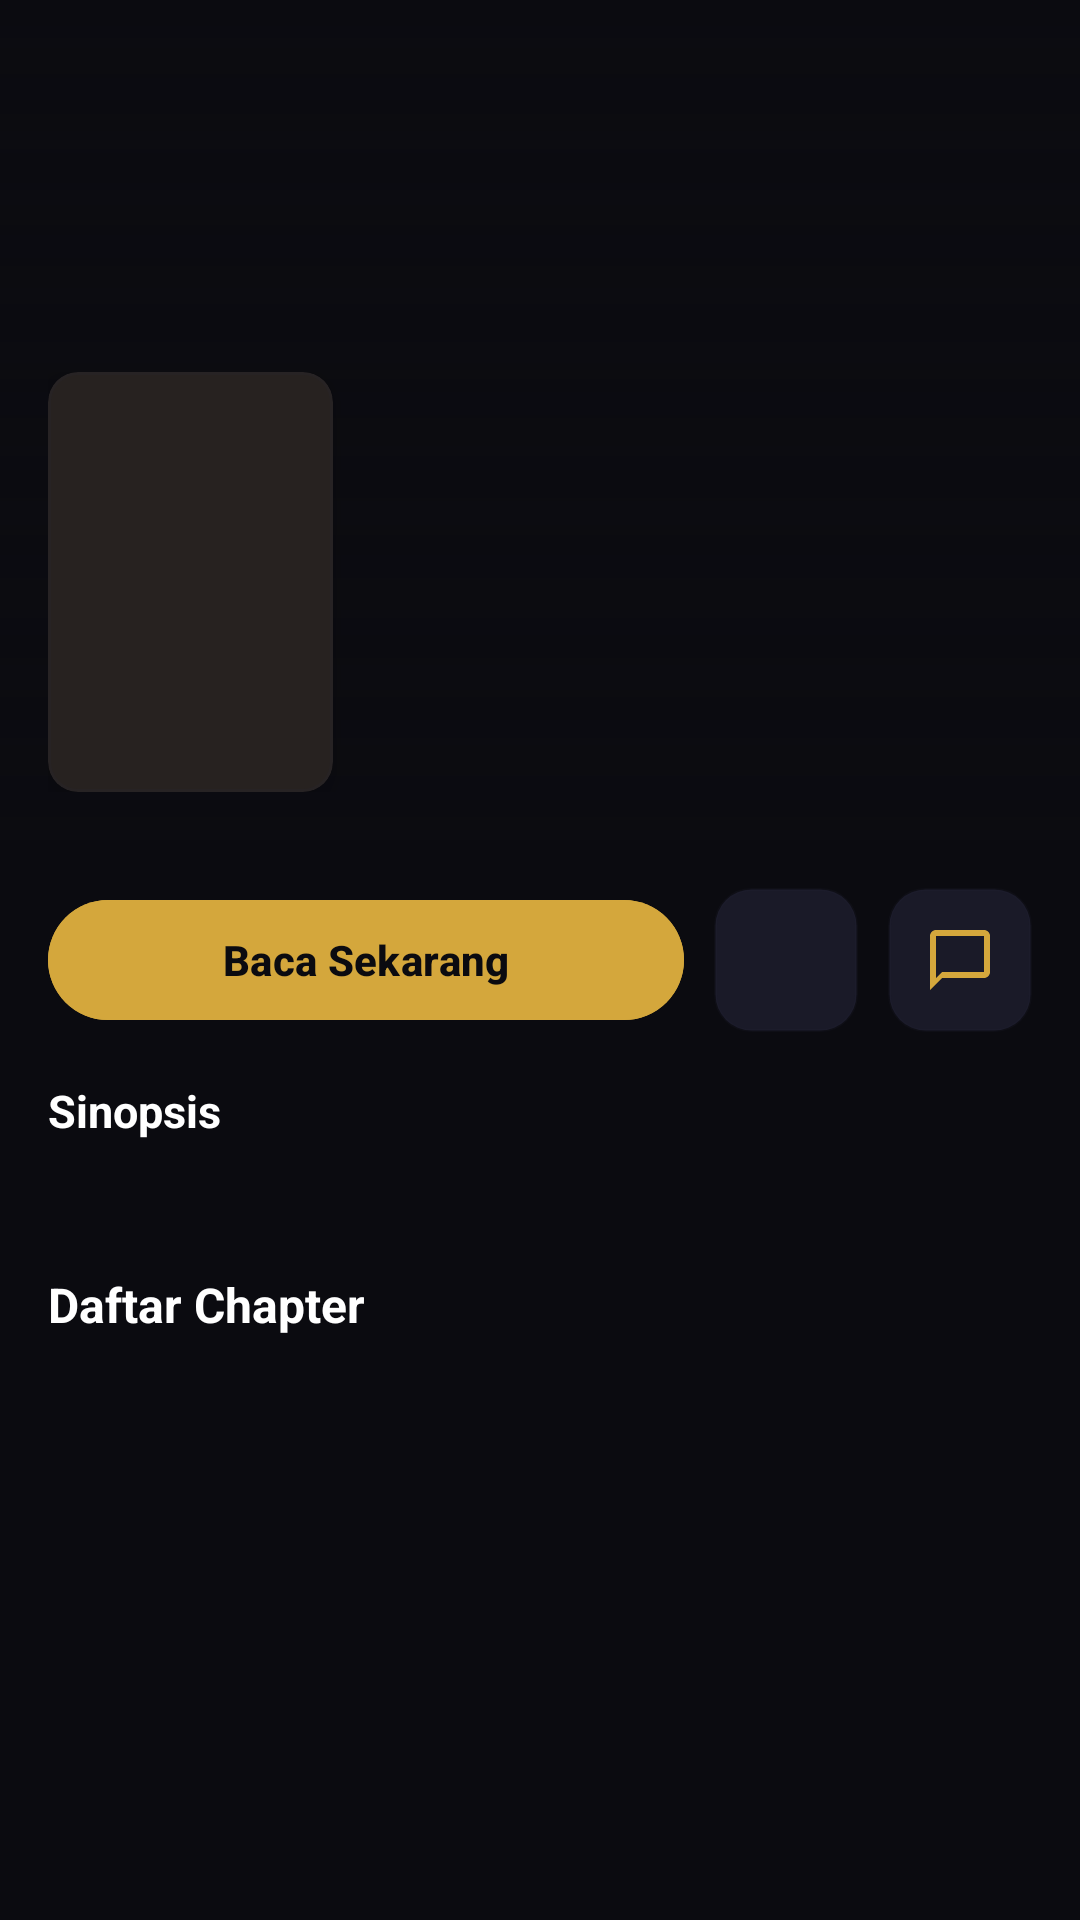

Where icons sit on this 1080 x 1920 app screen, as (x1, y1, x2, y2):
community: (889, 889, 1031, 1031)
